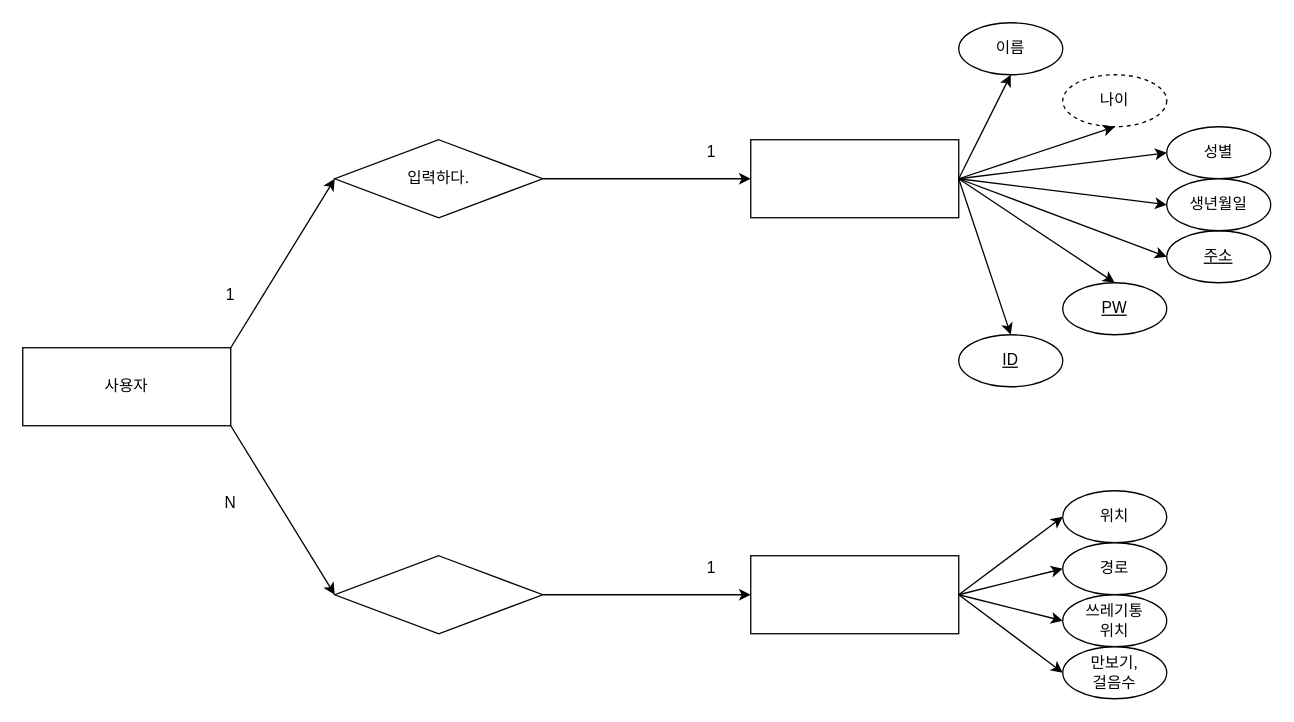
Some shapes in this 1294 by 722 pixel diagram are drawn without their labels. Here are the shapes that lost their labels. From the top down, the box of each, then its label:
(749, 138, 959, 218): 회원가입 및 로그인
(333, 554, 543, 634): 확인하다
(749, 554, 959, 634): 지도
